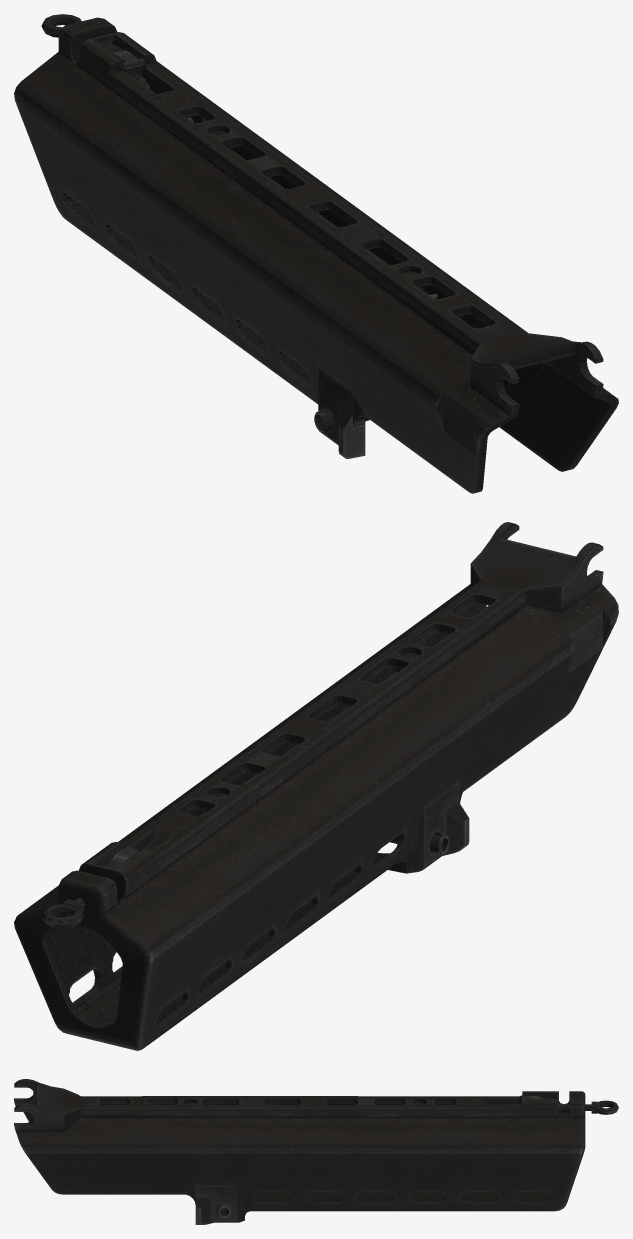
3 renders of one model, top to bottom at view 1: azimuth 30°, elevation 25°; view 2: azimuth 150°, elevation 25°; view 3: azimuth 270°, elevation 25°, orthographic. The views are drawn at different scales.
Parts seen in each view (by area): view 1: TW_6231654c71b5bc3baa1078e5_PZ_Import; view 2: TW_6231654c71b5bc3baa1078e5_PZ_Import; view 3: TW_6231654c71b5bc3baa1078e5_PZ_Import.
Boxes of the visible parts, left/top/right/bottom form: TW_6231654c71b5bc3baa1078e5_PZ_Import: left=14, top=14, right=618, bottom=493; TW_6231654c71b5bc3baa1078e5_PZ_Import: left=14, top=522, right=618, bottom=1050; TW_6231654c71b5bc3baa1078e5_PZ_Import: left=14, top=1079, right=618, bottom=1224.
Bounding box in the file's own units: 0.0301 × 0.1922 × 0.0411.
1 material, 1 textured.
